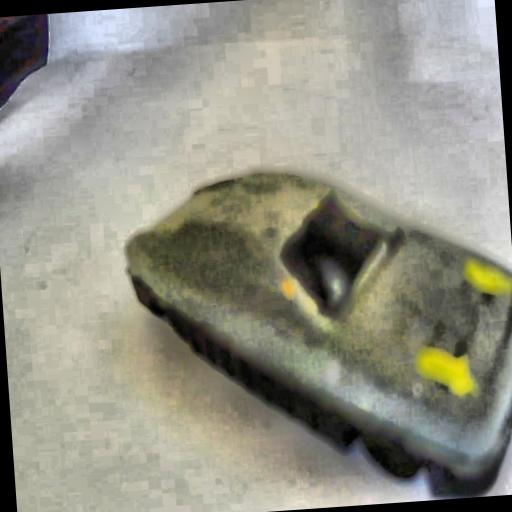normal_car: (113, 146, 512, 512)
